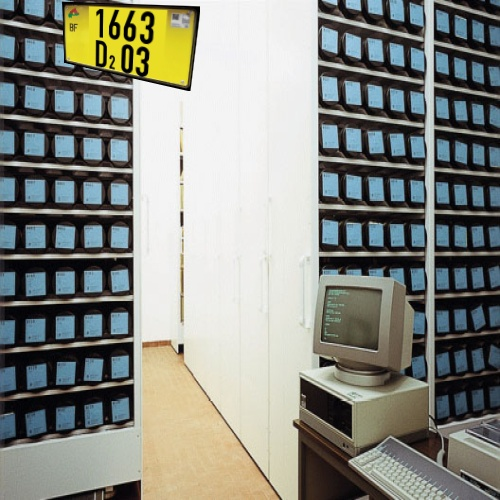plate: (54, 2, 212, 108)
